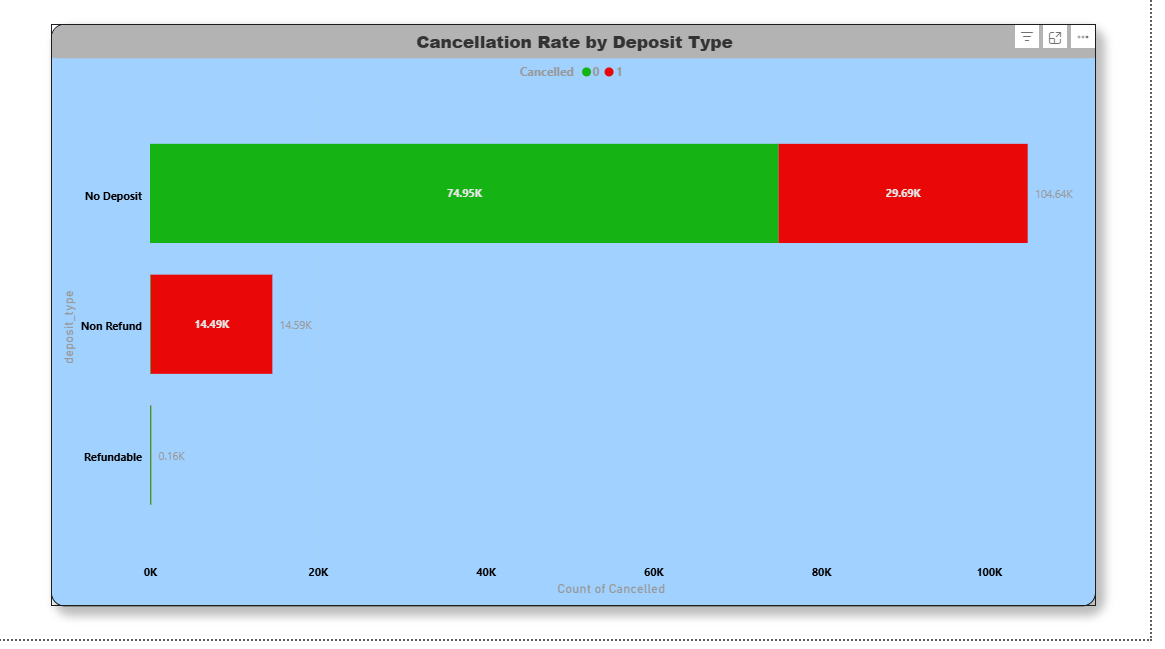

Layout of this report page (visuals, bound fields, positions):
{"tool":"powerbi","page":{"name":"Deposit Policy Effect","canvas":[1280,720],"ordinal":1},"visuals":[{"type":"barChart","title":"Cancellation Rate by Deposit Type","fields":{"Category":["hotel_bookings.deposit_type"],"Y":["CountNonNull(hotel_bookings.Cancelled)"],"Series":["hotel_bookings.Cancelled"]},"box":[58.9,36.7,1161.1,646.7],"z":0}]}

Visuals, with their boxes in screenshot pixels (x1, y1, x2, y2), scaled from the page's 1280x720 canvas onto the 1165x649 screenshot:
"Cancellation Rate by Deposit Type" barChart: Rect(54, 33, 1110, 616)
